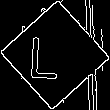L_N: (38, 29, 72, 81)
